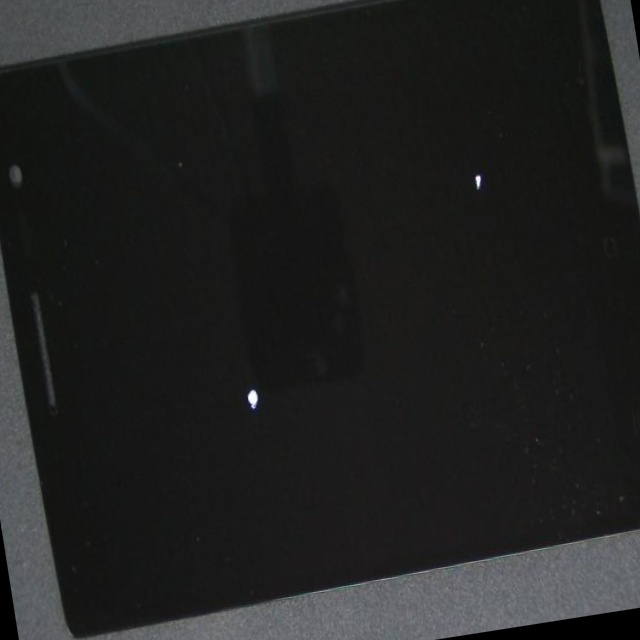stain: (163, 56, 640, 410), (51, 201, 406, 640)
